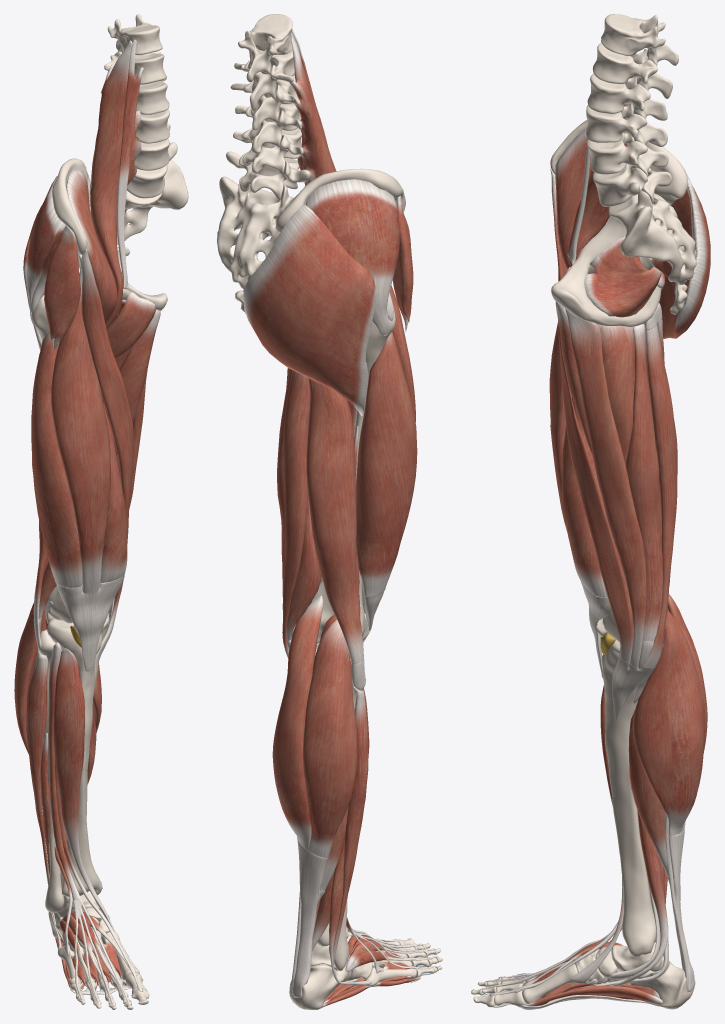
The model's file is leg-right.glb.
The picture shows the model from 3 angles, left to right: view 1: azimuth 30°, elevation 25°; view 2: azimuth 150°, elevation 25°; view 3: azimuth 270°, elevation 25°; orthographic projection. The views are drawn at different scales.
Parts seen in each view (by area): view 1: Rectus femoris.r, Vastus lateralis muscle.r, Psoas major.r, Tibialis anterior muscle.r, Sartorius muscle.r, Tibia.r, Tensor fasciae latae.r, Fibularis longus muscle.r, Quadriceps common tendon and patellar ligament.r, Iliacus muscle.r, Vastus medialis muscle.r, Psoas minor.r (+24 smaller); view 2: Gluteus maximus muscle.r, Vastus lateralis muscle.r, Long head of biceps femoris.r, Lateral head of gastrocnemius.r, Gluteus medius muscle.r, Medial head of gastrocnemius.r, Semitendinosus muscle.r, Sacrum, Fibularis longus muscle.r, Semimembranosus muscle.r, Psoas major.r, Calcaneal tendon.r (+19 smaller); view 3: Medial head of gastrocnemius.r, Gracilis muscle.r, Tibia.r, Semimembranosus muscle.r, Sartorius muscle.r, Hip bone.r, Semitendinosus muscle.r, Sacrum, Obturator internus.r, Gluteus maximus muscle.r, Vastus medialis muscle.r, Adductor magnus.r (+24 smaller).
Boxes of the visible parts, left/top/right/bottom form: Rectus femoris.r: left=51, top=266, right=110, bottom=593; Vastus lateralis muscle.r: left=31, top=331, right=81, bottom=587; Psoas major.r: left=90, top=40, right=141, bottom=328; Tibialis anterior muscle.r: left=53, top=648, right=116, bottom=932; Sartorius muscle.r: left=78, top=248, right=133, bottom=623; Tibia.r: left=46, top=615, right=109, bottom=896; Tensor fasciae latae.r: left=44, top=225, right=80, bottom=350; Fibularis longus muscle.r: left=26, top=648, right=63, bottom=942; Quadriceps common tendon and patellar ligament.r: left=56, top=576, right=124, bottom=671; Iliacus muscle.r: left=66, top=168, right=117, bottom=323; Vastus medialis muscle.r: left=100, top=402, right=127, bottom=582; Psoas minor.r: left=116, top=39, right=143, bottom=289; Gluteus maximus muscle.r: left=243, top=203, right=376, bottom=416; Vastus lateralis muscle.r: left=355, top=332, right=417, bottom=596; Long head of biceps femoris.r: left=306, top=378, right=363, bottom=664; Lateral head of gastrocnemius.r: left=303, top=619, right=357, bottom=858; Gluteus medius muscle.r: left=305, top=179, right=399, bottom=335; Medial head of gastrocnemius.r: left=272, top=595, right=323, bottom=850; Semitendinosus muscle.r: left=282, top=370, right=310, bottom=658; Sacrum: left=217, top=176, right=293, bottom=289; Fibularis longus muscle.r: left=333, top=686, right=368, bottom=982; Semimembranosus muscle.r: left=277, top=369, right=321, bottom=640; Psoas major.r: left=286, top=32, right=336, bottom=185; Calcaneal tendon.r: left=292, top=841, right=327, bottom=997; Medial head of gastrocnemius.r: left=633, top=610, right=704, bottom=836; Gracilis muscle.r: left=565, top=309, right=646, bottom=667; Tibia.r: left=602, top=640, right=656, bottom=957; Semimembranosus muscle.r: left=626, top=324, right=670, bottom=641; Sartorius muscle.r: left=550, top=168, right=633, bottom=663; Hip bone.r: left=550, top=120, right=687, bottom=326; Semitendinosus muscle.r: left=643, top=324, right=677, bottom=668; Sacrum: left=608, top=168, right=696, bottom=284; Obturator internus.r: left=584, top=236, right=661, bottom=317; Gluteus maximus muscle.r: left=643, top=155, right=710, bottom=338; Vastus medialis muscle.r: left=561, top=397, right=607, bottom=597; Adductor magnus.r: left=597, top=324, right=634, bottom=501.
Size of the model in its own units: 0.2204 by 1.16 by 0.2463.
49 materials, 7 textured.
